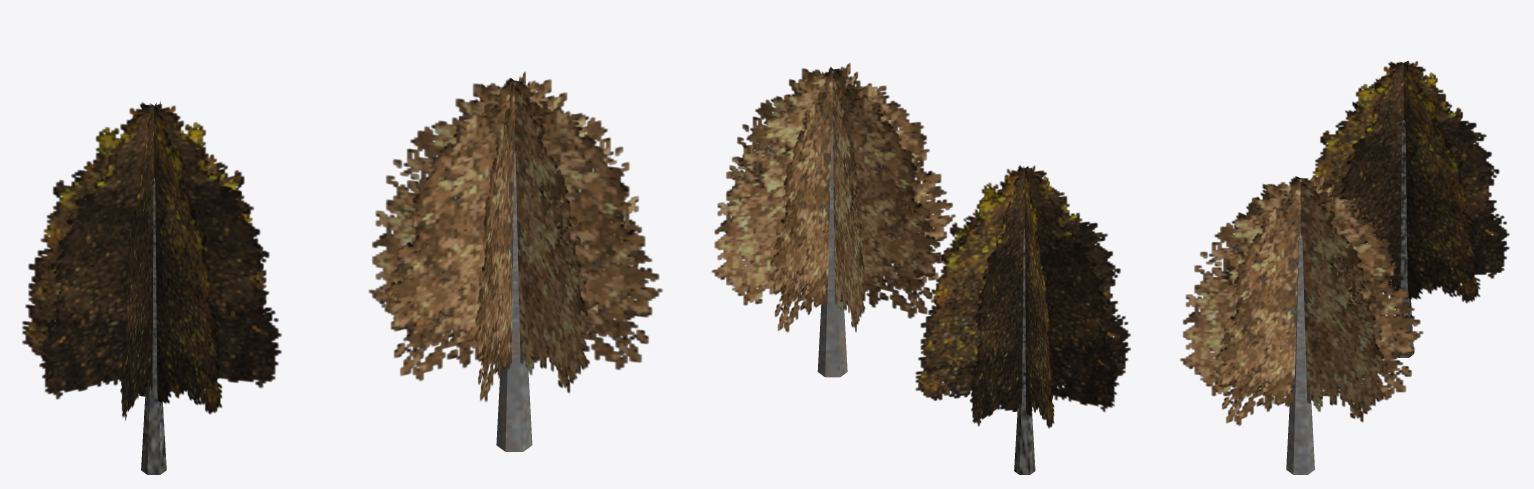
Rendered from trees_29_33_II.glb.
The picture shows the model from 3 angles, left to right: view 1: azimuth 30°, elevation 25°; view 2: azimuth 150°, elevation 25°; view 3: azimuth 270°, elevation 25°; orthographic projection. The views are drawn at different scales.
Visible parts, largest first — view 1: tree29, tree33; view 2: tree29, tree33; view 3: tree29, tree33.
Part boxes in pixels (left/top/right/bottom): tree29: left=368, top=71, right=662, bottom=451; tree33: left=22, top=101, right=281, bottom=474; tree29: left=711, top=63, right=955, bottom=377; tree33: left=915, top=165, right=1130, bottom=474; tree29: left=1180, top=174, right=1423, bottom=474; tree33: left=1310, top=61, right=1509, bottom=357.
Size of the model in its own units: 2.53 by 1.56 by 1.7.
Materials: 2 (2 with a texture image).
